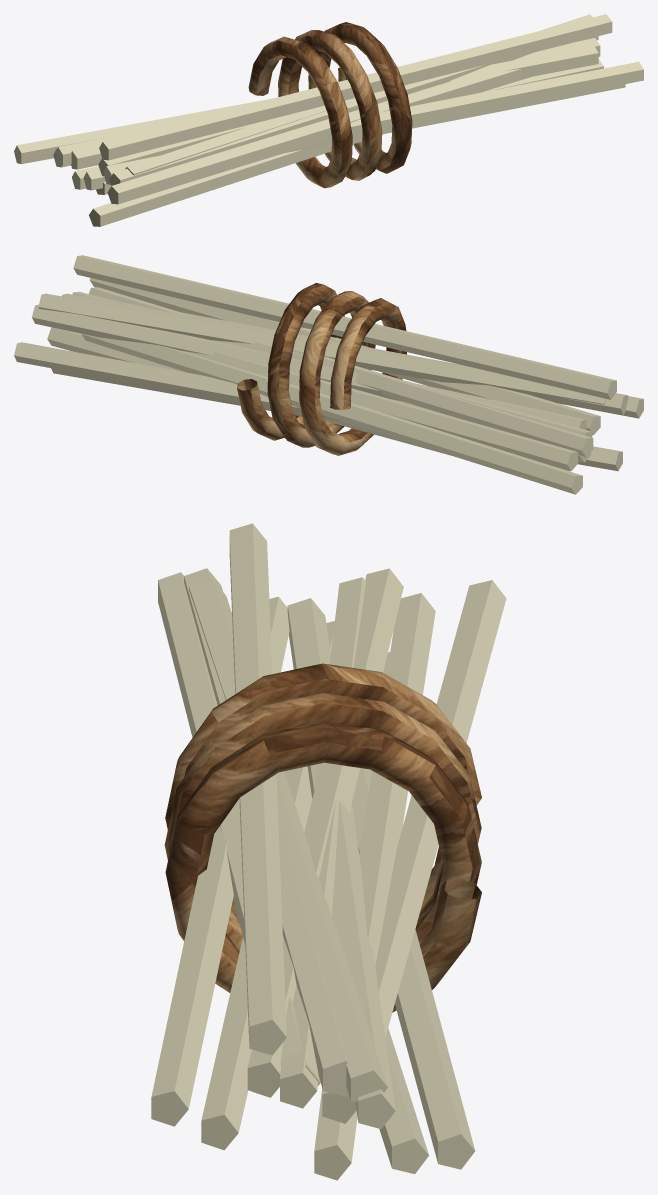
Rendered from fiber.glb.
The picture shows the model from 3 angles, top to bottom: view 1: azimuth 30°, elevation 25°; view 2: azimuth 150°, elevation 25°; view 3: azimuth 270°, elevation 25°; orthographic projection. The views are drawn at different scales.
Visible parts, largest first — view 1: model; view 2: model; view 3: model.
Part boxes in pixels (x1=…): model: x1=14, y1=14, x2=643, y2=226; model: x1=14, y1=255, x2=643, y2=494; model: x1=151, y1=523, x2=506, y2=1180.
Size of the model in its own units: 0.3673 by 0.0919 by 0.1028.
2 materials, 1 textured.
